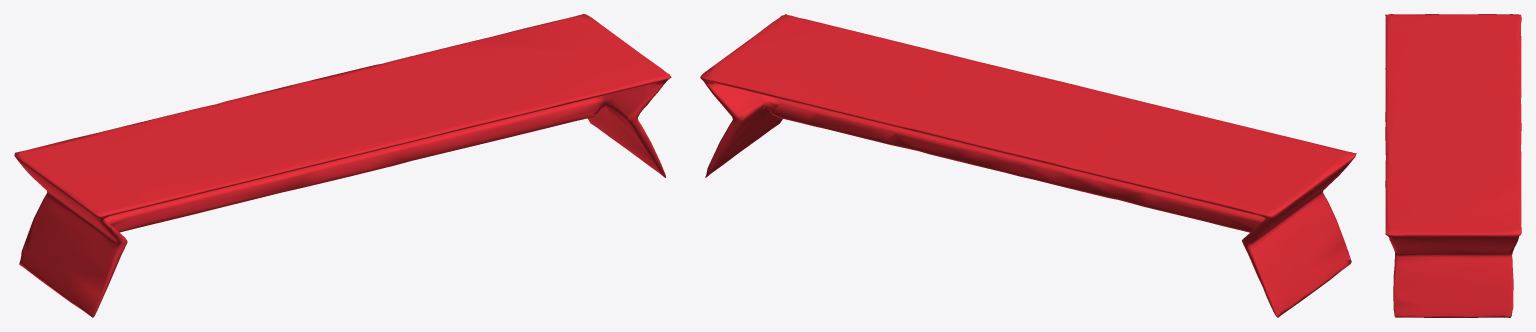
File: chaise_2.glb
3 views of the same model, side by side, from view 1: azimuth 30°, elevation 25°; view 2: azimuth 150°, elevation 25°; view 3: azimuth 270°, elevation 25° (orthographic). The views are drawn at different scales.
Visible parts, largest first — view 1: Mesh_0; view 2: Mesh_0; view 3: Mesh_0.
Boxes of the visible parts, x1=… form: Mesh_0: x1=14, y1=14, x2=671, y2=317; Mesh_0: x1=700, y1=14, x2=1356, y2=317; Mesh_0: x1=1385, y1=14, x2=1521, y2=317.
Size of the model in its own units: 3.99 by 0.7093 by 1.04.
